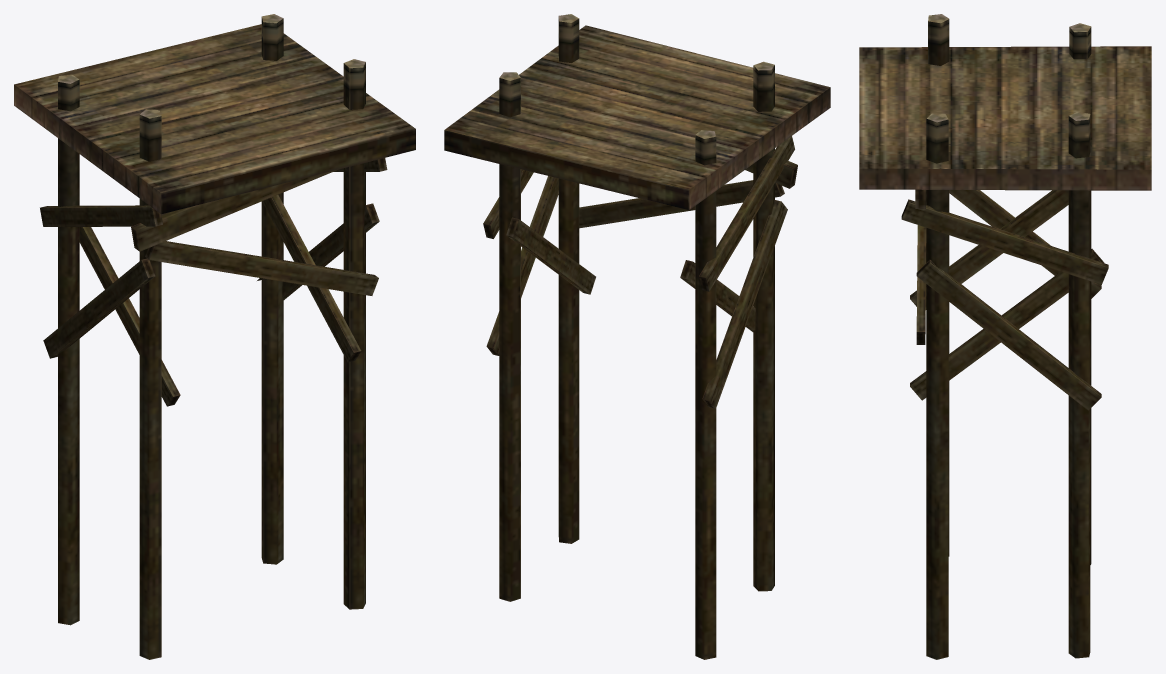
The model's file is b_general_obj_01_4.glb.
3 views of the same model, side by side, from view 1: azimuth 30°, elevation 25°; view 2: azimuth 150°, elevation 25°; view 3: azimuth 270°, elevation 25° (orthographic). The views are drawn at different scales.
Visible parts, largest first — view 1: Mesh03; view 2: Mesh03; view 3: Mesh03.
Boxes of the visible parts, x1=… form: Mesh03: x1=14, y1=14, x2=415, y2=659; Mesh03: x1=444, y1=14, x2=830, y2=659; Mesh03: x1=859, y1=14, x2=1151, y2=659.
Bounding box in the file's own units: 5 × 10.44 × 5.
Materials: 1 (1 with a texture image).
